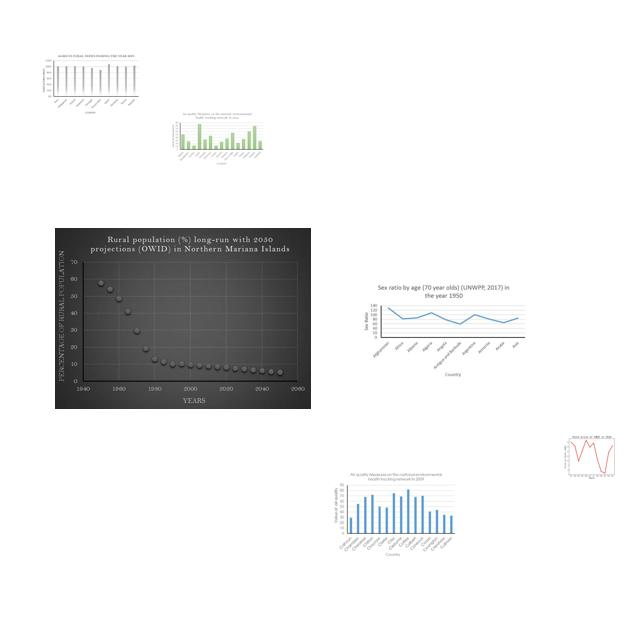Graph: (55, 228, 311, 409), (360, 282, 528, 379), (332, 471, 457, 560), (39, 54, 139, 114), (170, 111, 264, 166), (560, 433, 622, 480)
